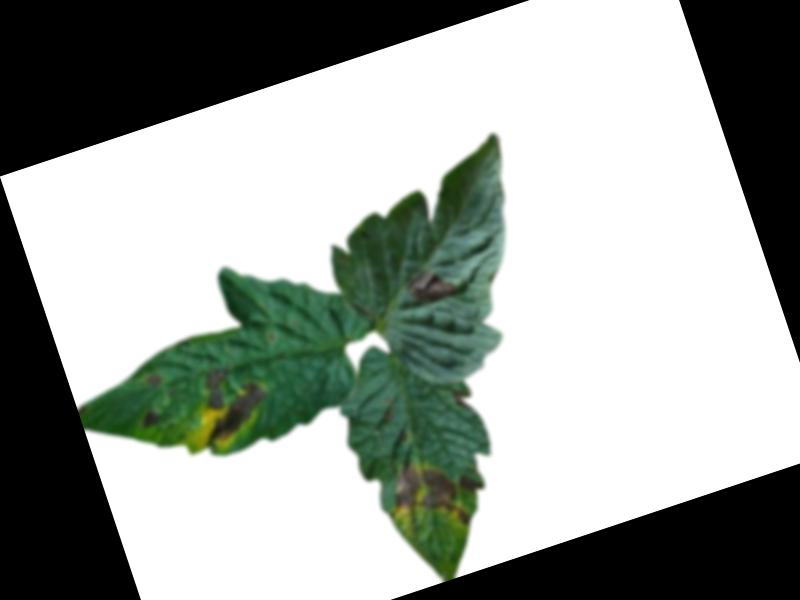Early_blight: (183, 355, 279, 449), (383, 447, 472, 545), (403, 261, 457, 308), (456, 468, 486, 497), (449, 385, 472, 411), (140, 406, 163, 428), (145, 370, 163, 386)
